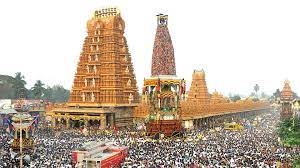Temple: (70, 7, 141, 113), (146, 12, 180, 93), (184, 65, 213, 108)
